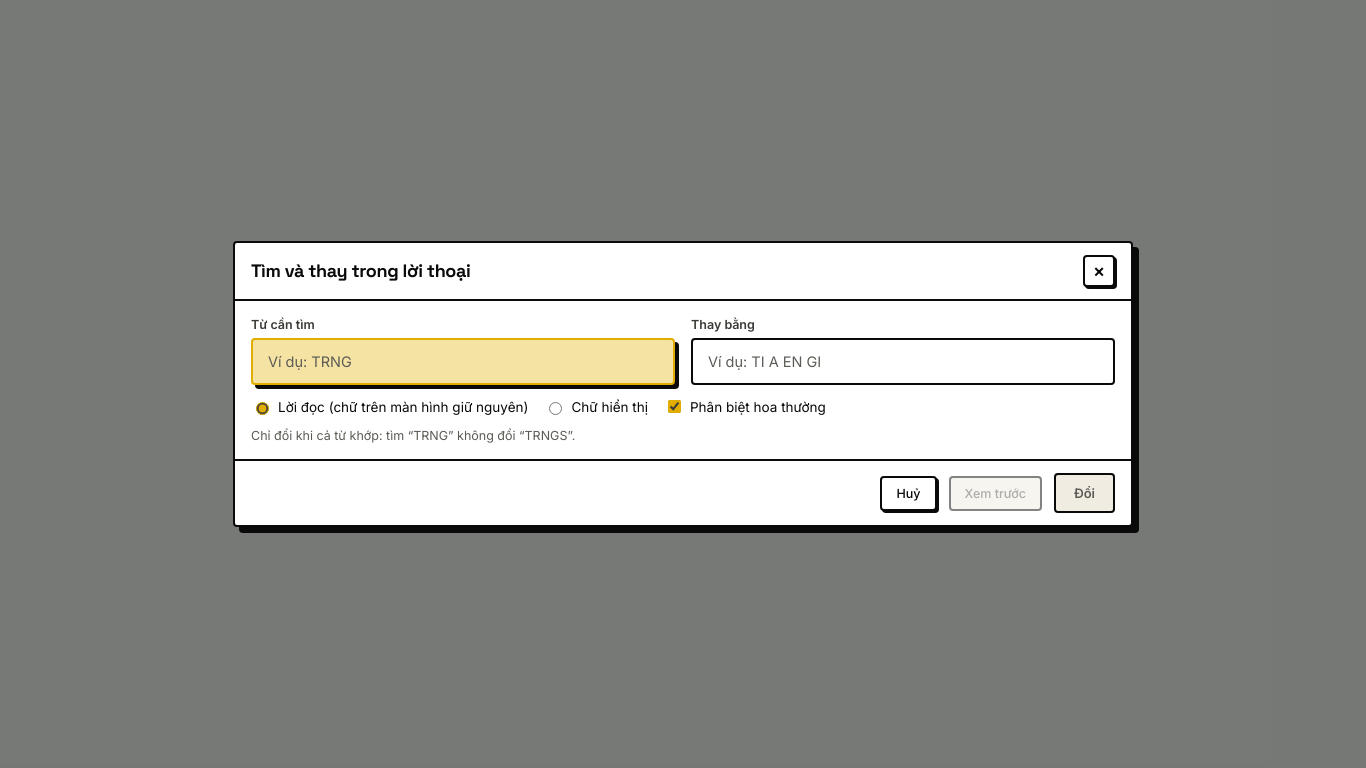
it: ScriptReplaceDialog › clears the preview when the word changes, so only what was shown can be applied
Type "TRNG" into the field with test id "script-replace-find" at (463, 362), box [251,338,675,385]
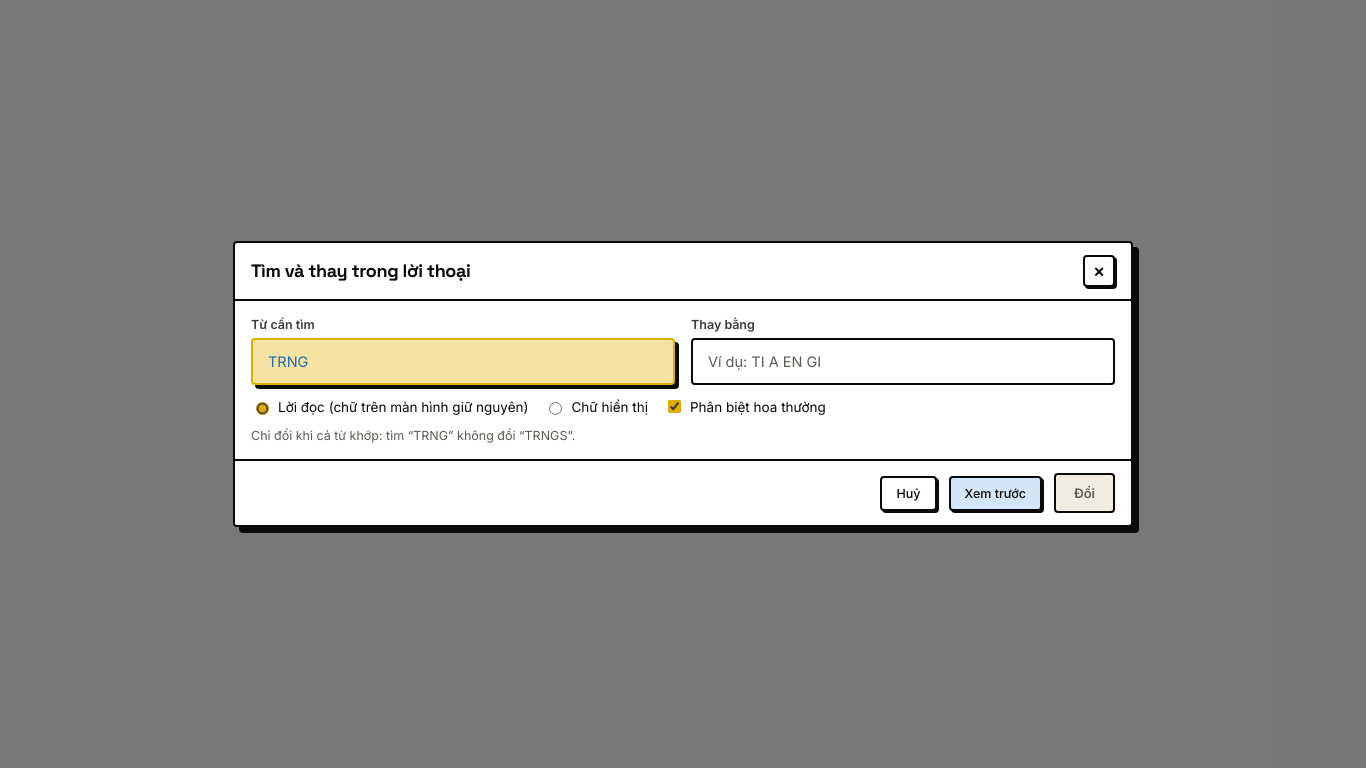
Type "X" into the field with test id "script-replace-with" at (903, 362), box [691,338,1115,385]
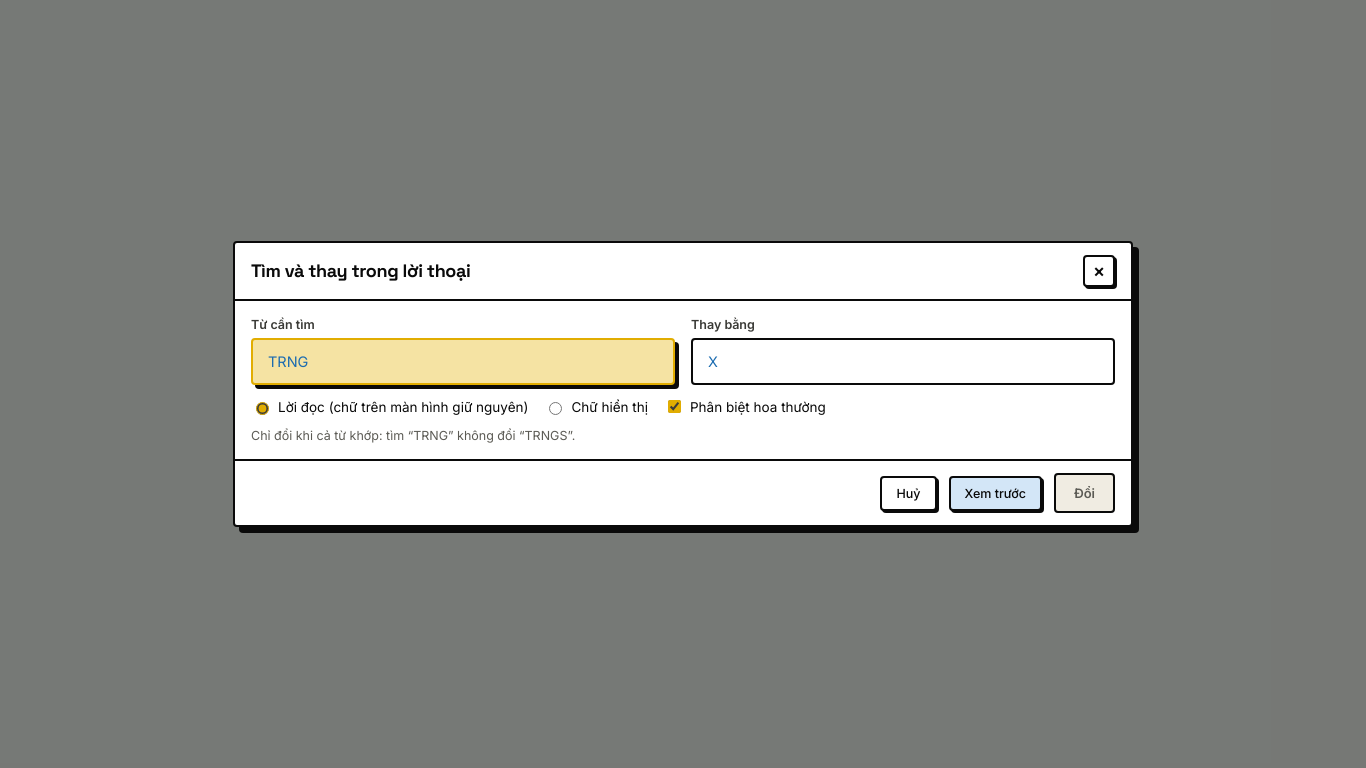
Click the button with test id "script-replace-preview" at (995, 493), box [948,476,1042,510]
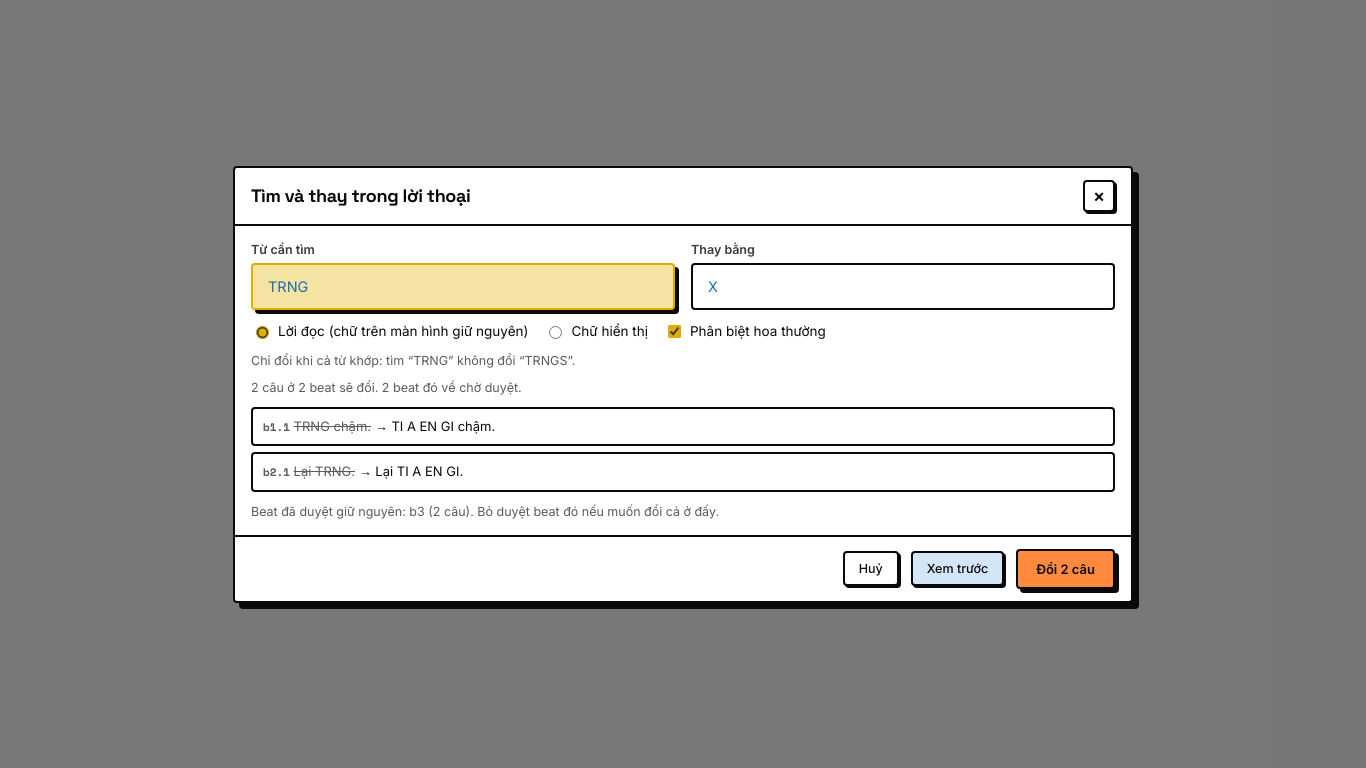
Expected: the list with test id "script-replace-matches" is shown, [251,406,1115,492]
Replace the text in the field with test id "script-replace-with" with "Y" at (903, 286), box [691,262,1115,310]
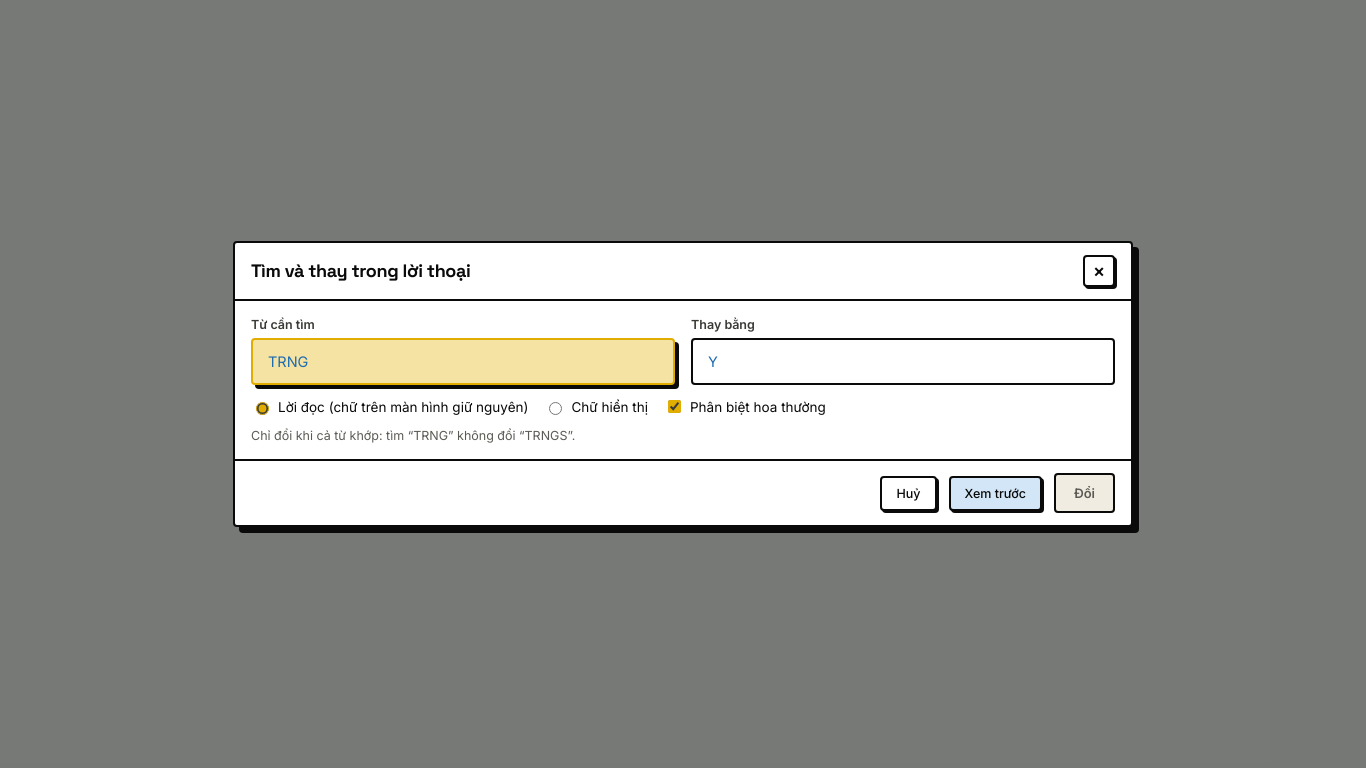
Expected: the list with test id "script-replace-matches" is gone
Expected: the button with test id "script-replace-apply" is disabled, [1054,473,1115,513]
